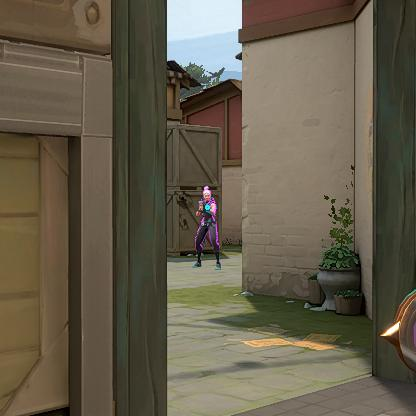enemyBody: (202, 202, 212, 222)
enemyHead: (204, 192, 209, 201)
